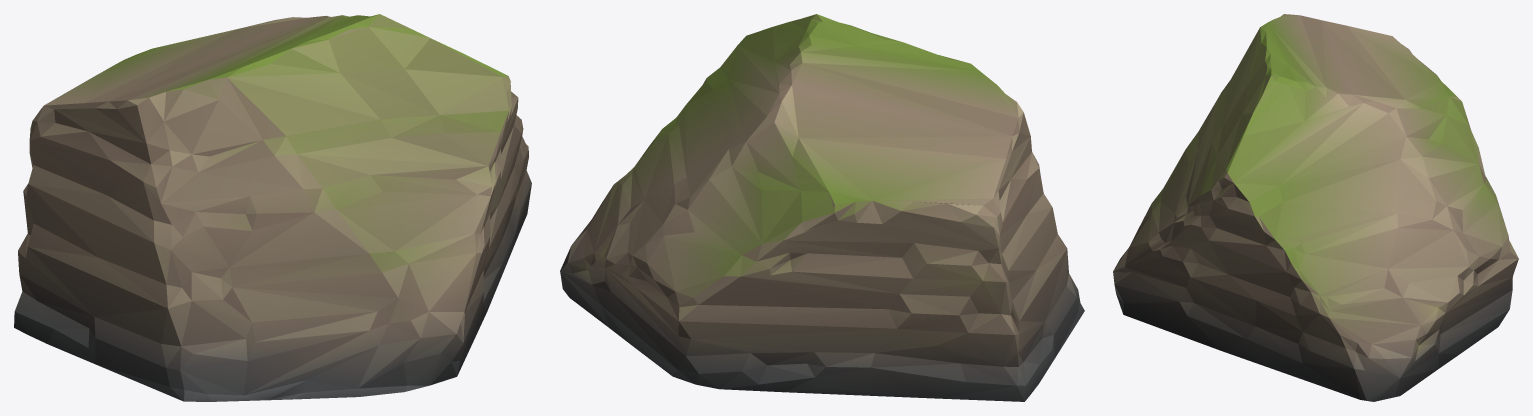
The model's file is Rock_B.glb.
The picture shows the model from 3 angles, left to right: view 1: azimuth 30°, elevation 25°; view 2: azimuth 150°, elevation 25°; view 3: azimuth 270°, elevation 25°; orthographic projection. The views are drawn at different scales.
Visible parts, largest first — view 1: Rock_B; view 2: Rock_B; view 3: Rock_B.
Boxes of the visible parts, x1=… form: Rock_B: x1=14, y1=14, x2=531, y2=401; Rock_B: x1=560, y1=14, x2=1084, y2=401; Rock_B: x1=1113, y1=14, x2=1518, y2=401.
Size of the model in its own units: 2.58 by 1.45 by 2.19.
